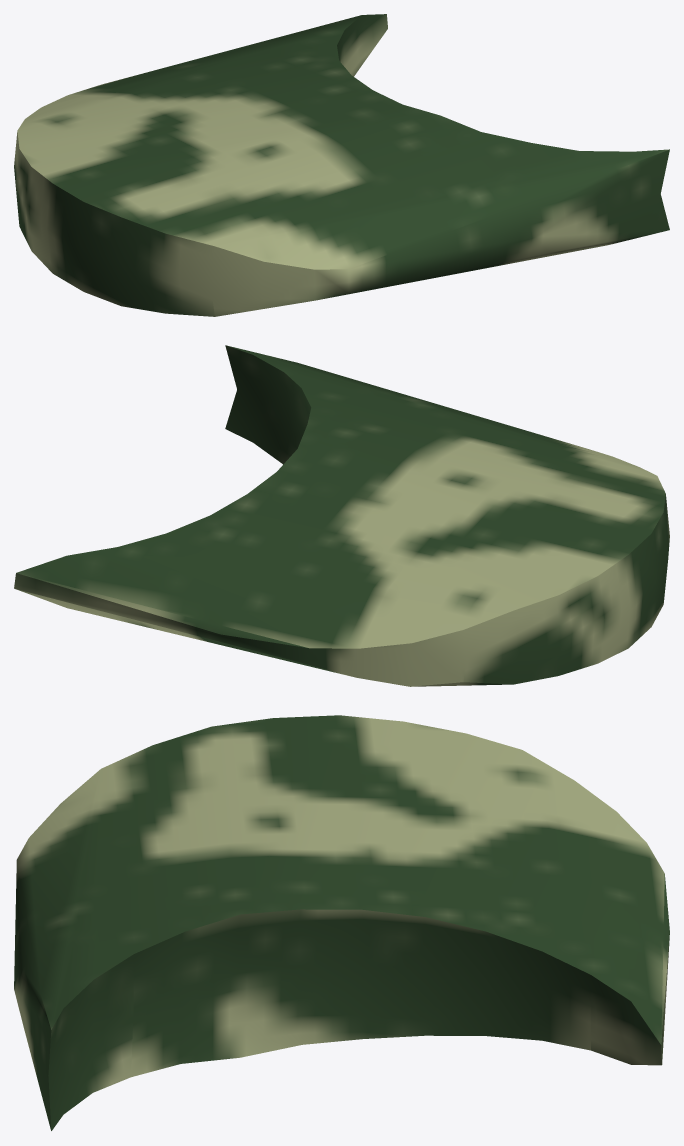
File: link_body_38.obj
3 views of the same model, one above another, from view 1: azimuth 30°, elevation 25°; view 2: azimuth 150°, elevation 25°; view 3: azimuth 270°, elevation 25° (orthographic). The views are drawn at different scales.
Parts seen in each view (by area): view 1: link_body_38; view 2: link_body_38; view 3: link_body_38.
Part boxes in pixels (x1,y1,x2,y2): link_body_38: (14, 14, 669, 316); link_body_38: (14, 345, 669, 686); link_body_38: (14, 715, 669, 1130).
Bounding box in the file's own units: 6.17 × 1.32 × 5.49.
